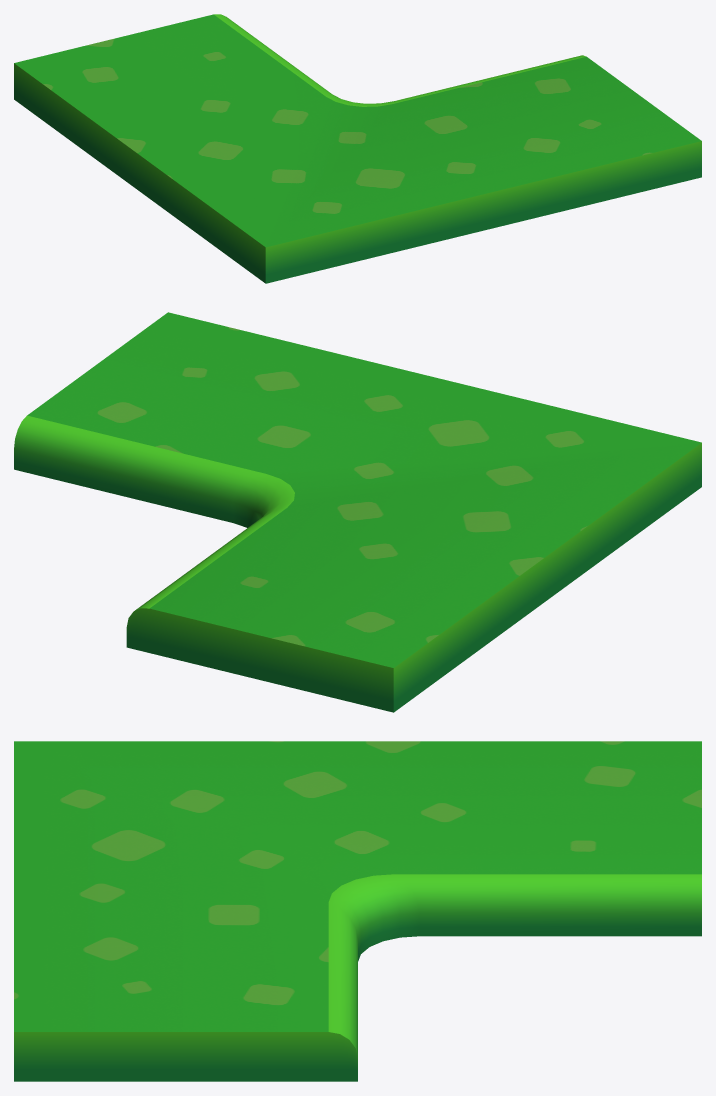
File: GrassFloor_InnerCorner_3.fbx
The picture shows the model from 3 angles, top to bottom: view 1: azimuth 30°, elevation 25°; view 2: azimuth 150°, elevation 25°; view 3: azimuth 270°, elevation 25°; orthographic projection. The views are drawn at different scales.
Visible parts, largest first — view 1: GrassFloor_InnerCorner_3; view 2: GrassFloor_InnerCorner_3; view 3: GrassFloor_InnerCorner_3.
Part boxes in pixels (<box>): GrassFloor_InnerCorner_3: <box>14,14,701,283</box>; GrassFloor_InnerCorner_3: <box>14,312,701,712</box>; GrassFloor_InnerCorner_3: <box>14,741,701,1081</box>.
Bounding box in the file's own units: 400 × 31.87 × 400.
